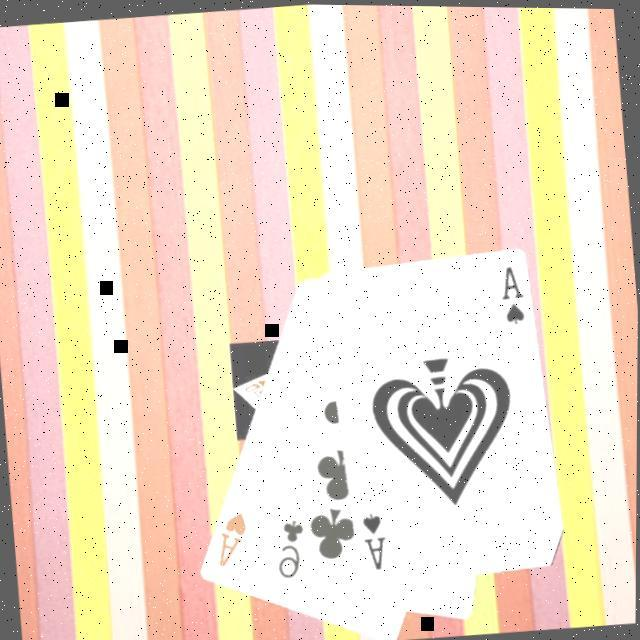9C: (269, 516, 310, 584)
AH: (210, 508, 252, 572)
AS: (356, 510, 391, 576), (494, 262, 528, 329)
